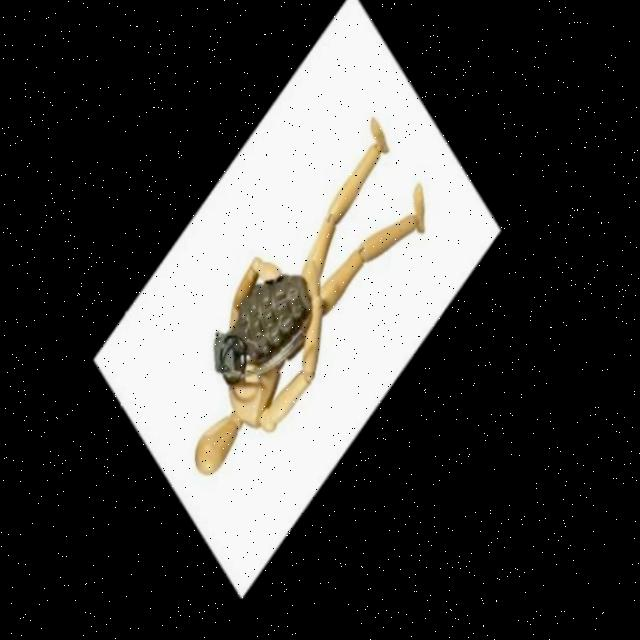grenade: (180, 250, 332, 411)
